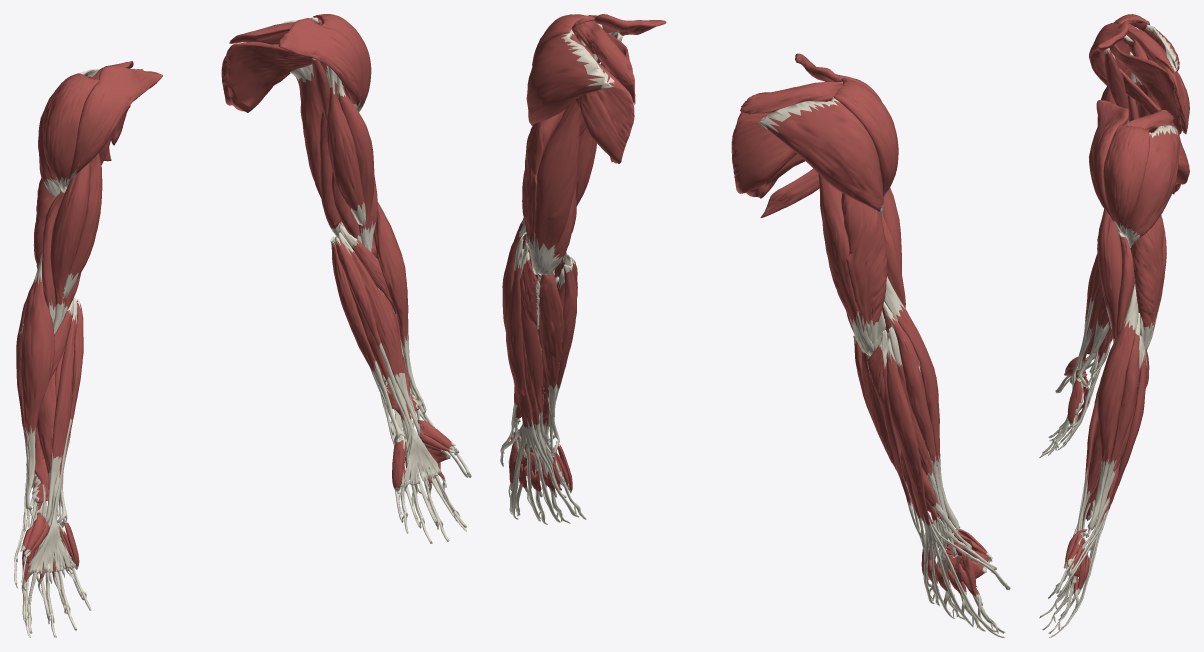
File: muscular-upper-limb-balanced.glb
The picture shows the model from 3 angles, left to right: view 1: azimuth 30°, elevation 25°; view 2: azimuth 150°, elevation 25°; view 3: azimuth 270°, elevation 25°; orthographic projection. The views are drawn at different scales.
Visible parts, largest first — view 1: za.brachioradialis-muscle-r, za.clavicular-part-of-deltoid-muscle-r, za.subscapularis-muscle-l, za.acromial-part-of-deltoid-muscle-r, za.clavicular-part-of-deltoid-muscle-l, za.long-head-of-biceps-brachii-r, za.short-head-of-biceps-brachii-l, za.palmaris-longus-muscle-l, za.brachioradialis-muscle-l, za.palmaris-longus-muscle-r, za.flexor-carpi-radialis-r, za.flexor-carpi-radialis-l (+19 smaller); view 2: za.scapular-spinal-part-of-deltoid-muscle-r, za.long-head-of-triceps-brachii-l, za.scapular-spinal-part-of-deltoid-muscle-l, za.lateral-head-of-triceps-brachii-r, za.extensor-digitorum-r, za.extensor-digitorum-l, za.infraspinatus-muscle-l, za.infraspinatus-muscle-r, za.long-head-of-triceps-brachii-r, za.acromial-part-of-deltoid-muscle-r, za.extensor-carpi-radialis-longus-r, za.brachioradialis-muscle-r (+21 smaller); view 3: za.brachioradialis-muscle-l, za.acromial-part-of-deltoid-muscle-l, za.scapular-spinal-part-of-deltoid-muscle-l, za.lateral-head-of-triceps-brachii-l, za.long-head-of-biceps-brachii-l, za.clavicular-part-of-deltoid-muscle-l, za.subscapularis-muscle-r, za.extensor-carpi-radialis-longus-l, za.extensor-digitorum-l, za.clavicular-part-of-deltoid-muscle-r, za.brachialis-muscle-l, za.coracobrachialis-muscle-r (+26 smaller).
Boxes of the visible parts, x1=… form: za.brachioradialis-muscle-r: x1=21, y1=252, x2=54, y2=512; za.clavicular-part-of-deltoid-muscle-r: x1=66, y1=65, x2=162, y2=188; za.subscapularis-muscle-l: x1=225, y1=41, x2=319, y2=112; za.acromial-part-of-deltoid-muscle-r: x1=42, y1=73, x2=98, y2=190; za.clavicular-part-of-deltoid-muscle-l: x1=278, y1=18, x2=363, y2=110; za.long-head-of-biceps-brachii-r: x1=50, y1=162, x2=90, y2=334; za.short-head-of-biceps-brachii-l: x1=326, y1=65, x2=365, y2=225; za.palmaris-longus-muscle-l: x1=335, y1=236, x2=441, y2=488; za.brachioradialis-muscle-l: x1=373, y1=202, x2=426, y2=415; za.palmaris-longus-muscle-r: x1=28, y1=299, x2=83, y2=574; za.flexor-carpi-radialis-r: x1=45, y1=297, x2=77, y2=522; za.flexor-carpi-radialis-l: x1=338, y1=232, x2=420, y2=436; za.scapular-spinal-part-of-deltoid-muscle-r: x1=758, y1=97, x2=883, y2=216; za.long-head-of-triceps-brachii-l: x1=531, y1=100, x2=582, y2=275; za.scapular-spinal-part-of-deltoid-muscle-l: x1=526, y1=32, x2=614, y2=125; za.lateral-head-of-triceps-brachii-r: x1=841, y1=193, x2=887, y2=356; za.extensor-digitorum-r: x1=886, y1=338, x2=996, y2=632; za.extensor-digitorum-l: x1=505, y1=249, x2=578, y2=522; za.infraspinatus-muscle-l: x1=570, y1=29, x2=634, y2=163; za.infraspinatus-muscle-r: x1=731, y1=115, x2=796, y2=193; za.long-head-of-triceps-brachii-r: x1=818, y1=174, x2=873, y2=355; za.acromial-part-of-deltoid-muscle-r: x1=833, y1=78, x2=898, y2=197; za.extensor-carpi-radialis-longus-r: x1=883, y1=302, x2=958, y2=557; za.brachioradialis-muscle-r: x1=884, y1=276, x2=959, y2=531; za.brachioradialis-muscle-l: x1=1087, y1=279, x2=1138, y2=531; za.acromial-part-of-deltoid-muscle-l: x1=1103, y1=124, x2=1149, y2=236; za.scapular-spinal-part-of-deltoid-muscle-l: x1=1126, y1=125, x2=1179, y2=247; za.lateral-head-of-triceps-brachii-l: x1=1132, y1=216, x2=1165, y2=350; za.long-head-of-biceps-brachii-l: x1=1097, y1=210, x2=1122, y2=343; za.clavicular-part-of-deltoid-muscle-l: x1=1089, y1=100, x2=1128, y2=232; za.subscapularis-muscle-r: x1=1109, y1=44, x2=1181, y2=134; za.extensor-carpi-radialis-longus-l: x1=1089, y1=312, x2=1140, y2=551; za.extensor-digitorum-l: x1=1058, y1=349, x2=1146, y2=628; za.clavicular-part-of-deltoid-muscle-r: x1=1089, y1=21, x2=1128, y2=85; za.brachialis-muscle-l: x1=1116, y1=232, x2=1134, y2=336; za.coracobrachialis-muscle-r: x1=1104, y1=48, x2=1129, y2=122.
Size of the model in its own units: 0.66 by 0.7122 by 0.2052.
